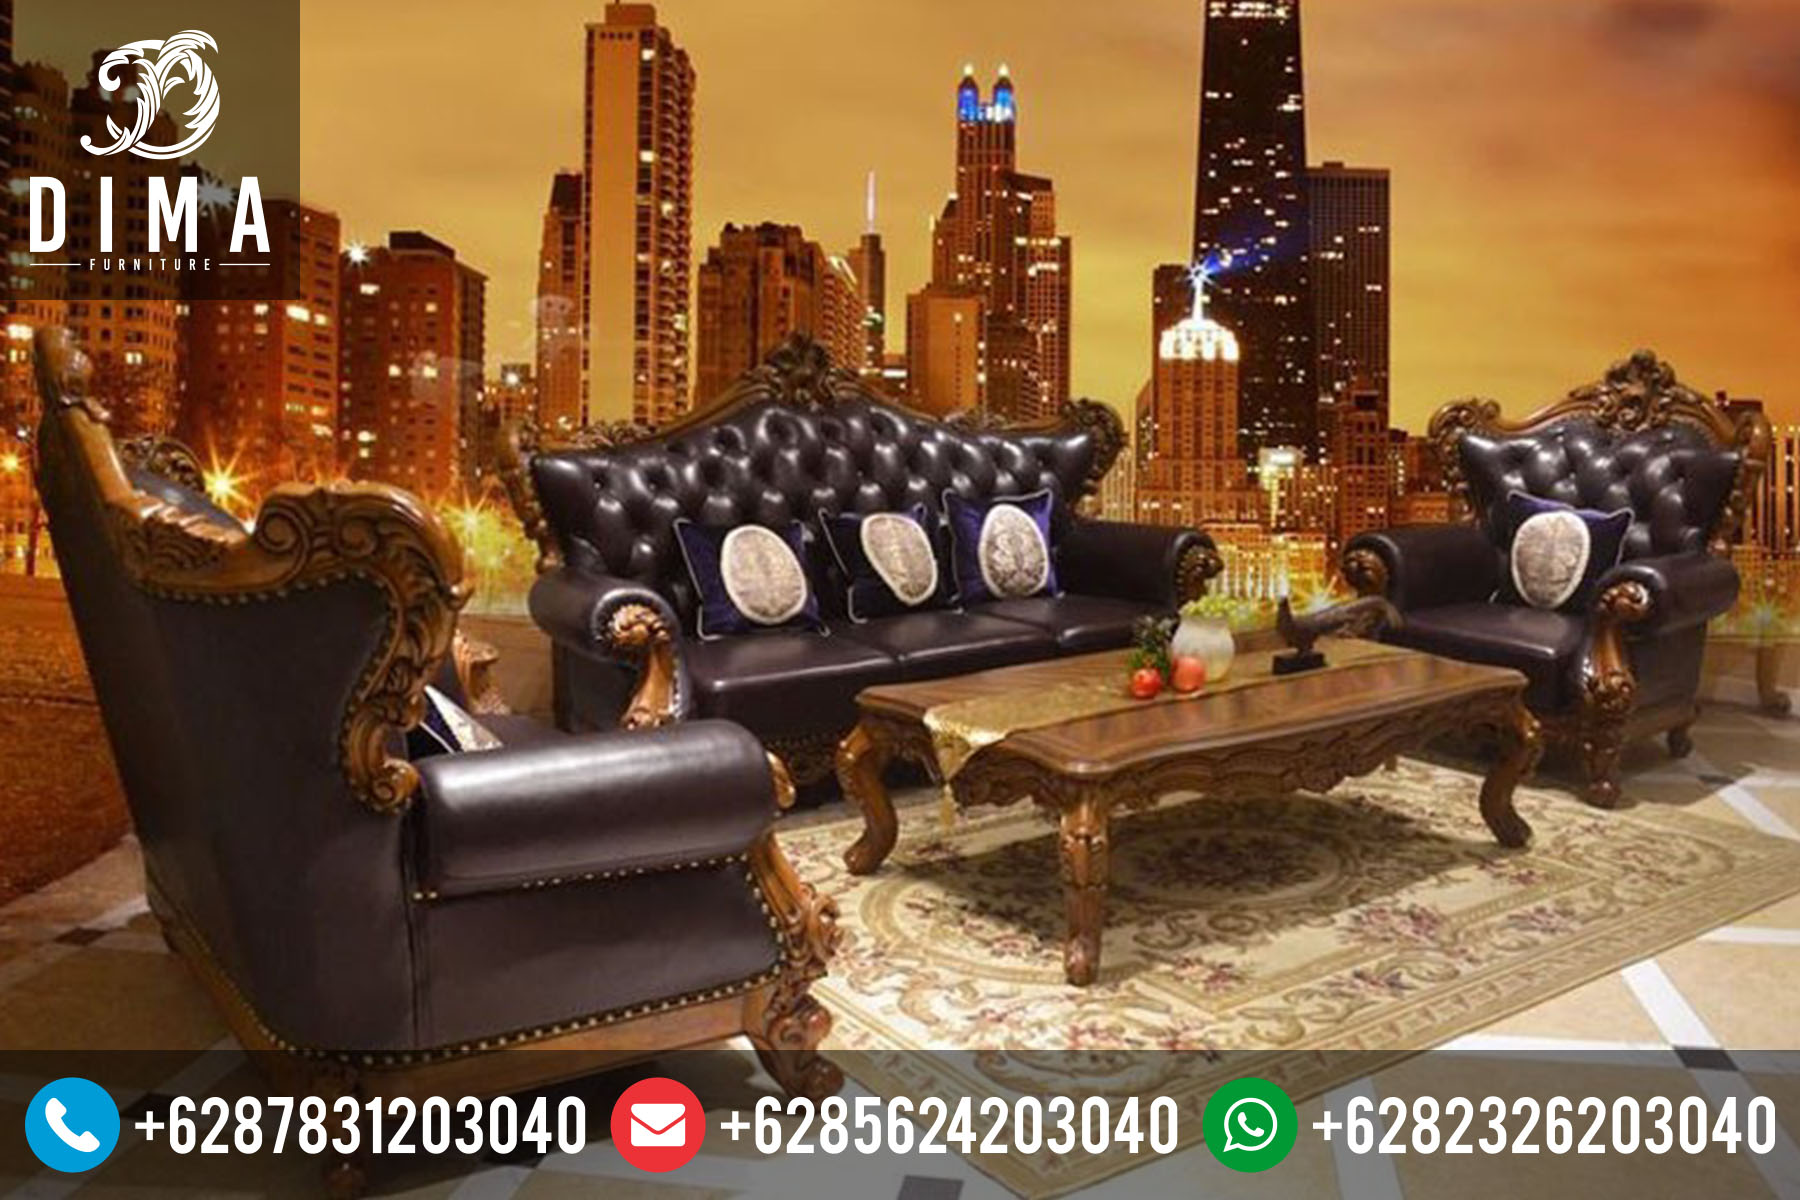Carving Chair: (46, 391, 854, 1146), (562, 360, 1189, 719), (1326, 360, 1771, 793)
Carving Table: (816, 643, 1563, 942)
